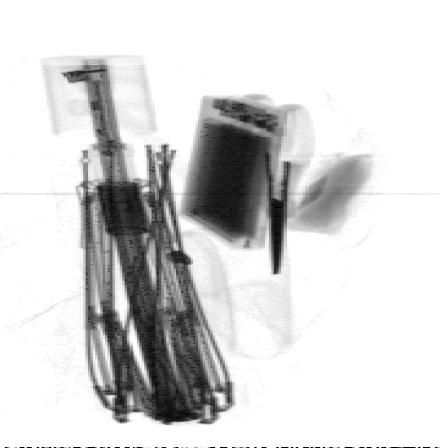Powerbank: (170, 88, 294, 250)
Scissors: (229, 91, 312, 277)
